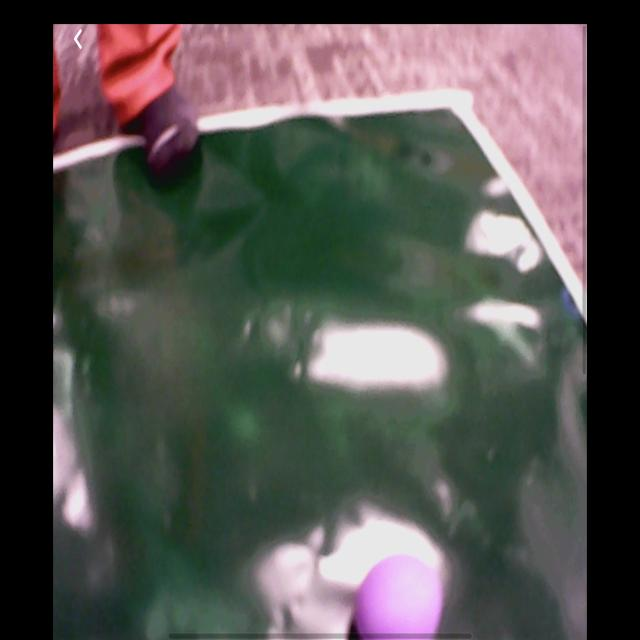ball: (352, 556, 444, 638)
